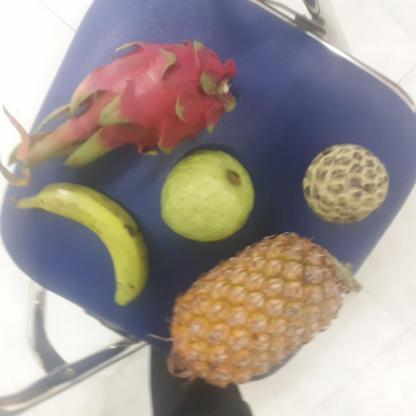annona: (300, 143, 390, 223)
guava: (158, 149, 254, 238)
pineapple: (170, 235, 348, 388)
pitaya: (69, 38, 234, 161)
